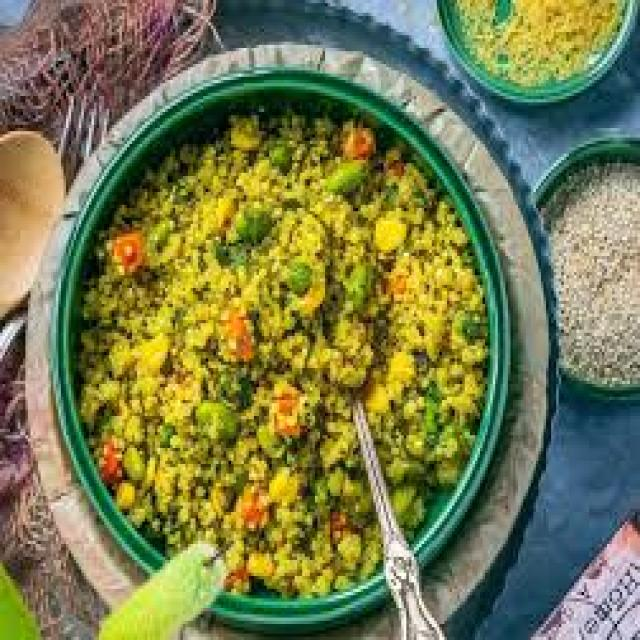POHA: (74, 109, 485, 595)
